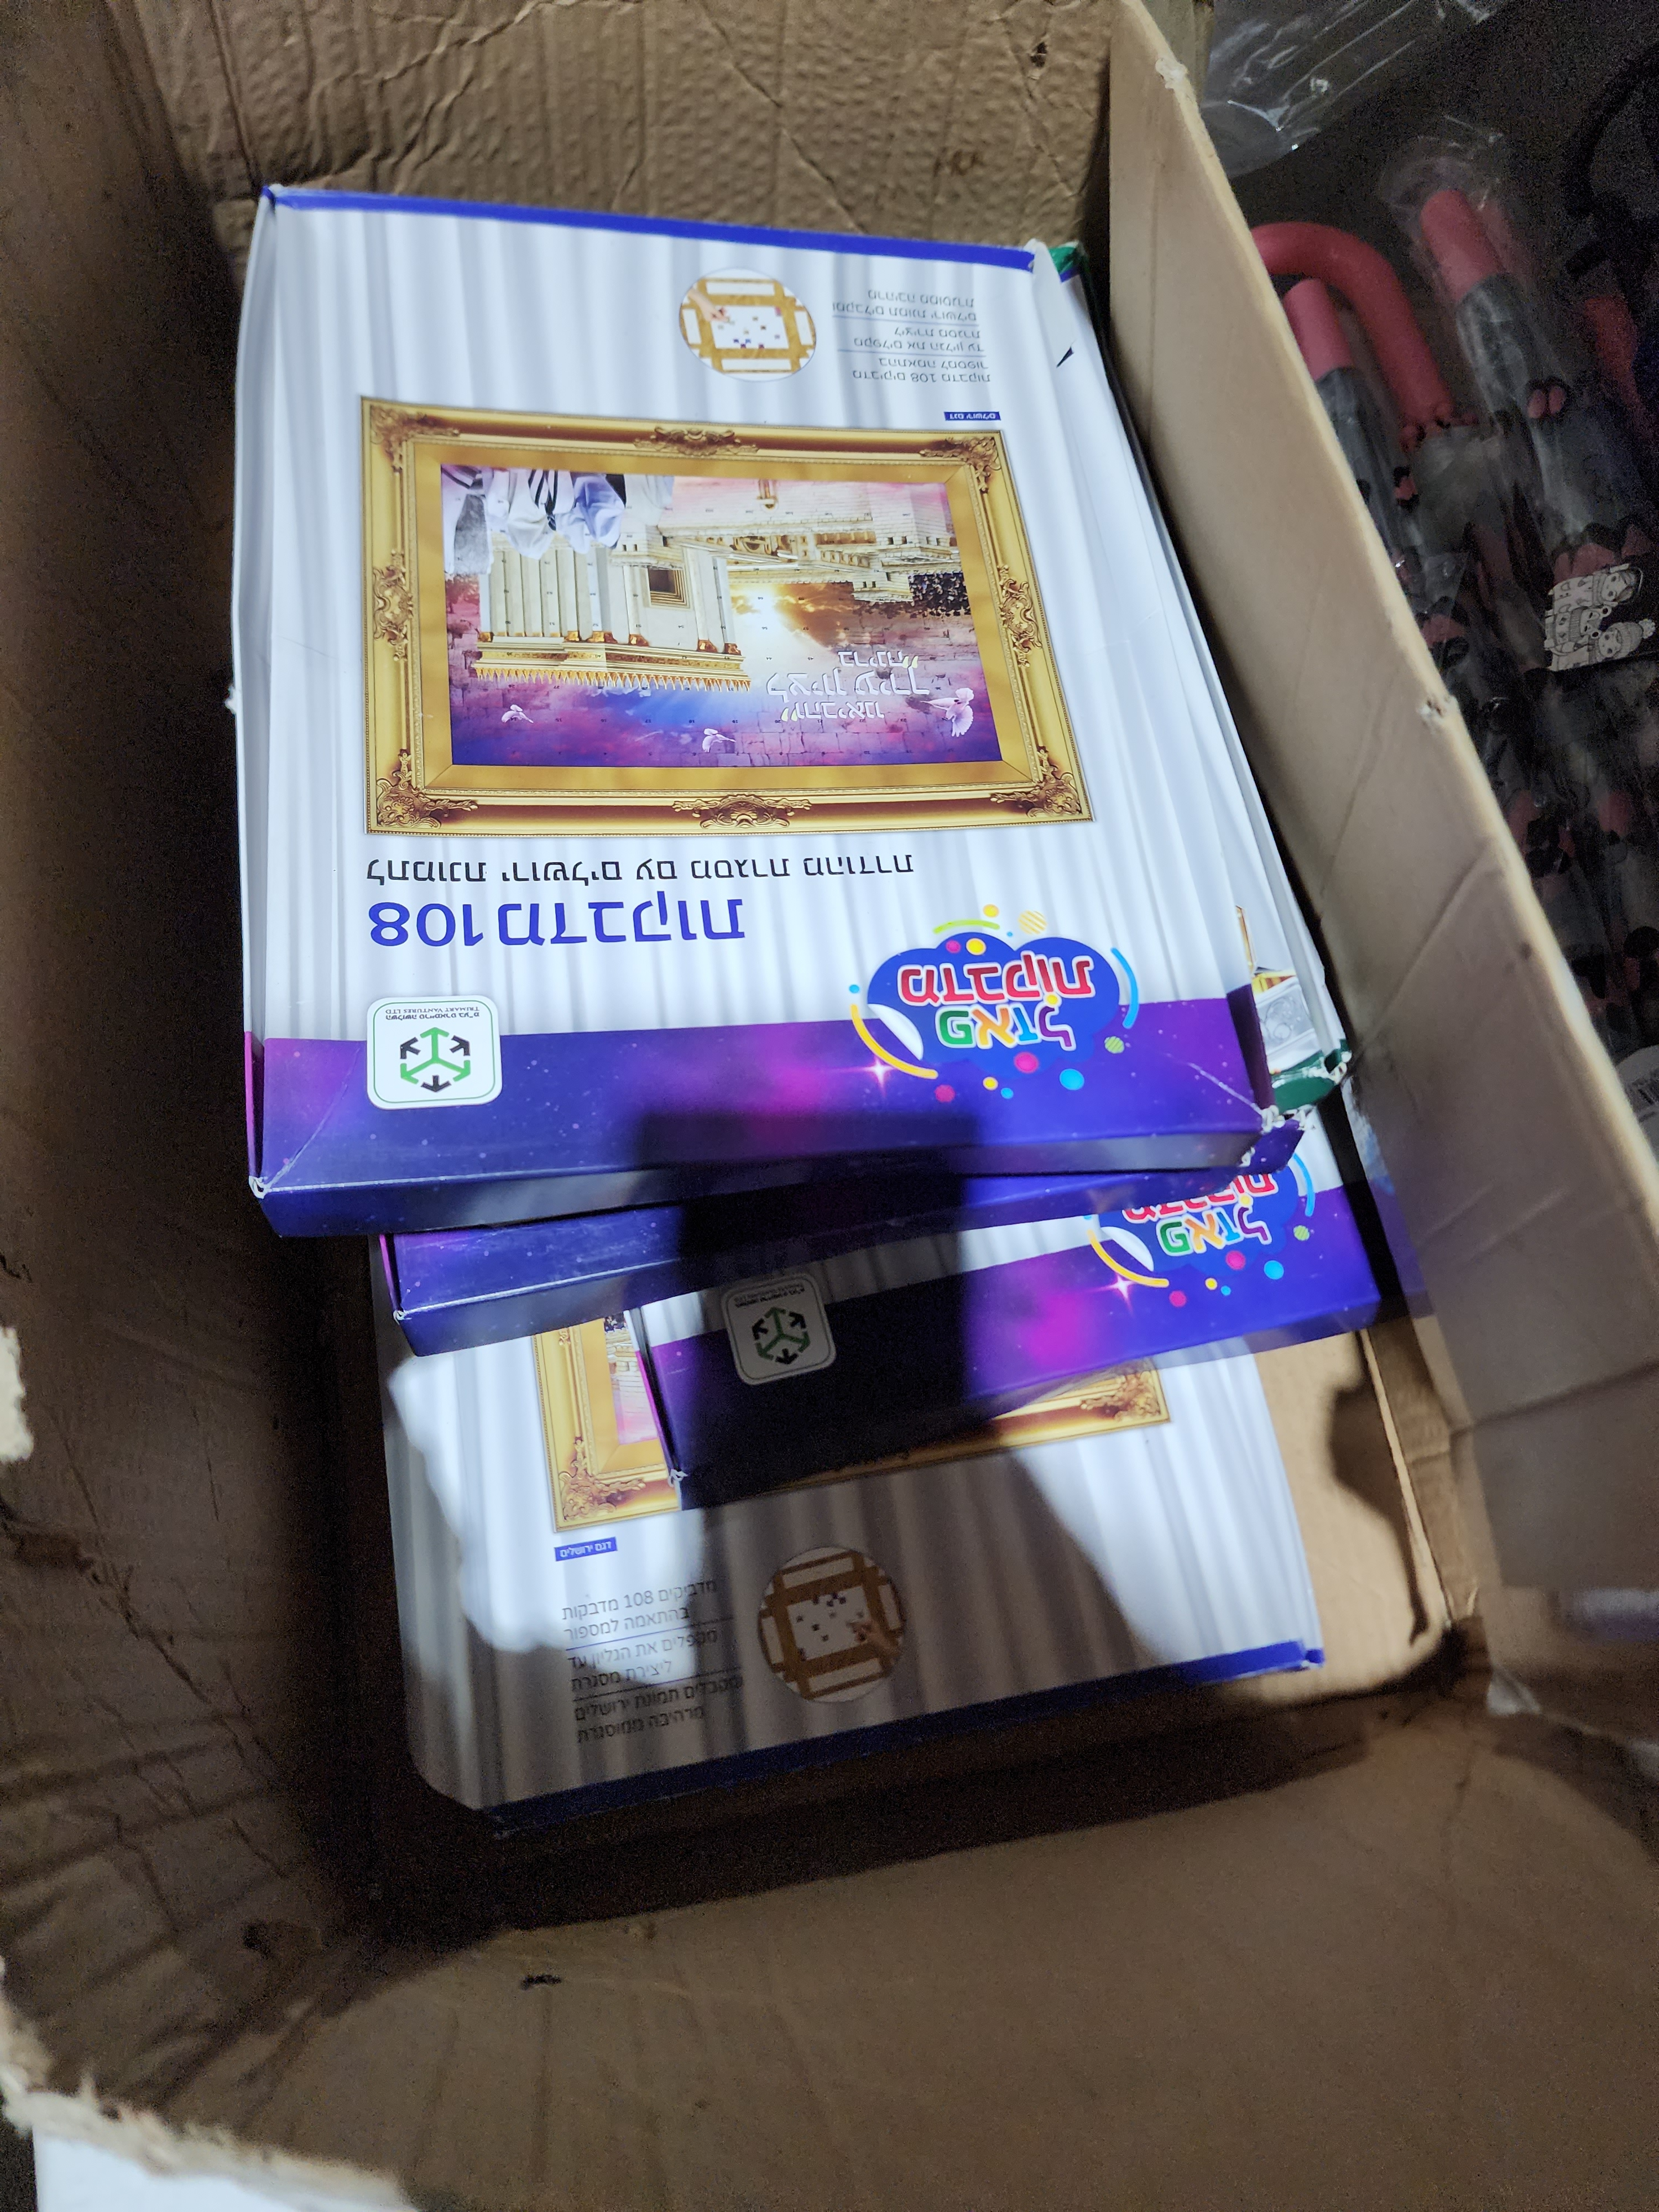other: (227, 85, 1300, 1207), (314, 1324, 1429, 1766)
